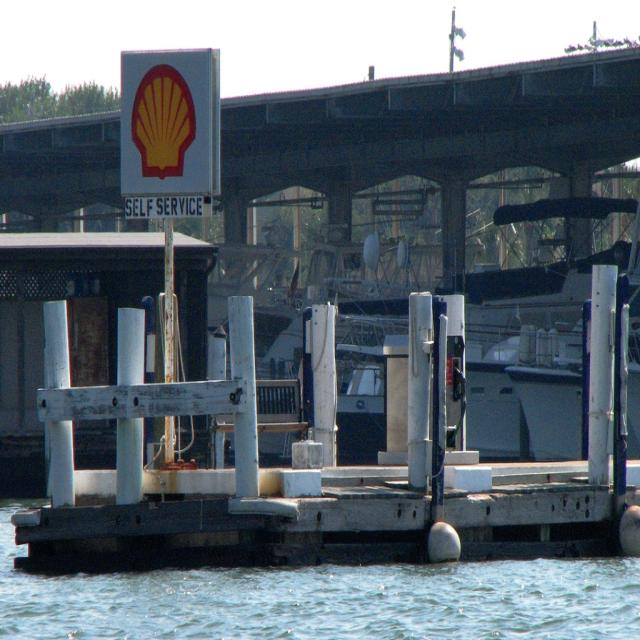shell: (131, 62, 199, 181)
